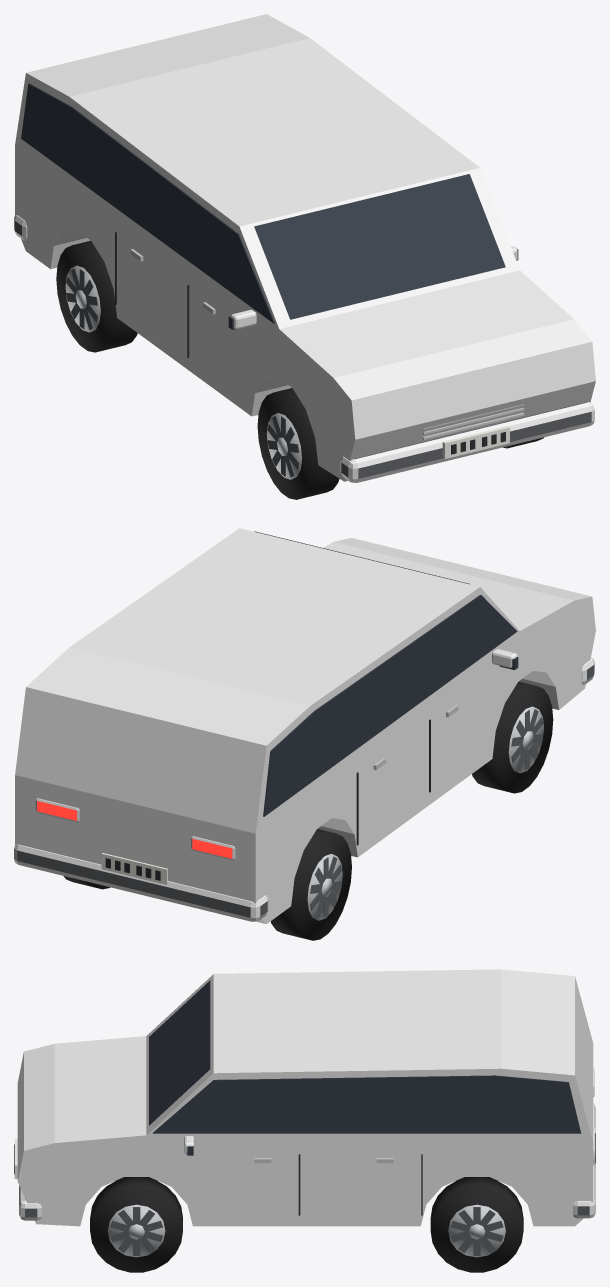
File: suv.gltf
The picture shows the model from 3 angles, top to bottom: view 1: azimuth 30°, elevation 25°; view 2: azimuth 150°, elevation 25°; view 3: azimuth 270°, elevation 25°; orthographic projection. The views are drawn at different scales.
Visible parts, largest first — view 1: suv, Wheel1, Wheel3; view 2: suv, Wheel3, Wheel1; view 3: suv, Wheel2, Wheel0.
Boxes of the visible parts, bbox=[...] form: suv: bbox=[14, 14, 595, 482]; Wheel1: bbox=[257, 388, 339, 499]; Wheel3: bbox=[56, 240, 137, 352]; suv: bbox=[14, 528, 595, 923]; Wheel3: bbox=[270, 829, 351, 940]; Wheel1: bbox=[472, 681, 553, 793]; suv: bbox=[14, 969, 595, 1226]; Wheel2: bbox=[430, 1177, 523, 1272]; Wheel0: bbox=[90, 1177, 182, 1272].
Bounding box in the file's own units: 0.456 × 0.3672 × 0.9504.
Materials: 9 (1 with a texture image).
